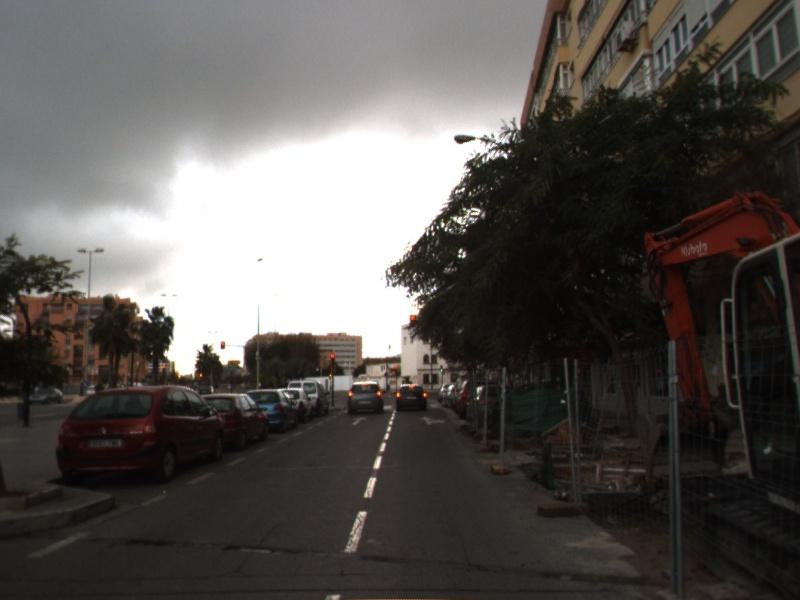STRAIGHT: (350, 415, 370, 426)
STRAIGHT_RIGHT: (417, 414, 449, 427)
